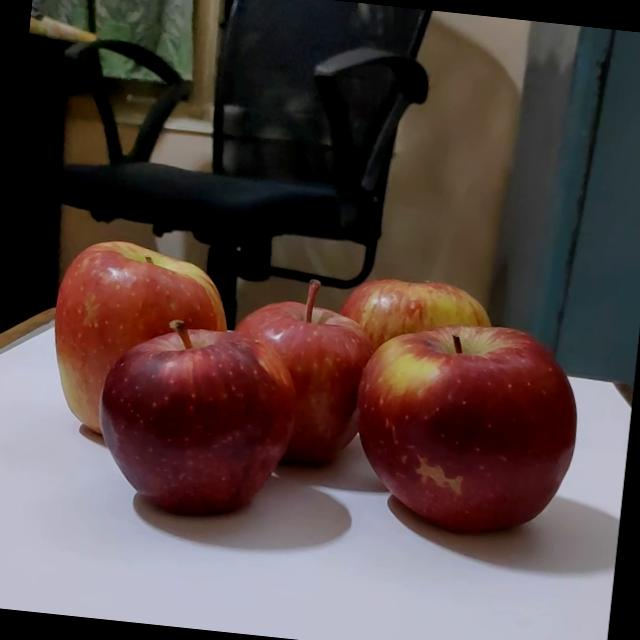apple: (326, 314, 576, 548), (78, 322, 292, 524), (31, 237, 220, 452), (203, 275, 373, 477), (316, 262, 500, 404)
